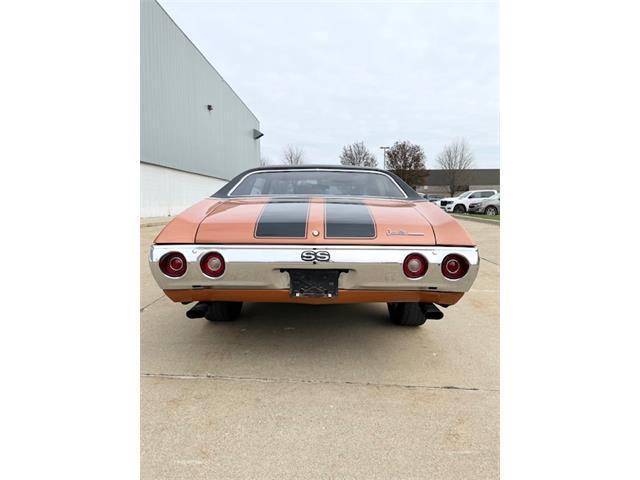chevelle-1972: (149, 165, 479, 325)
